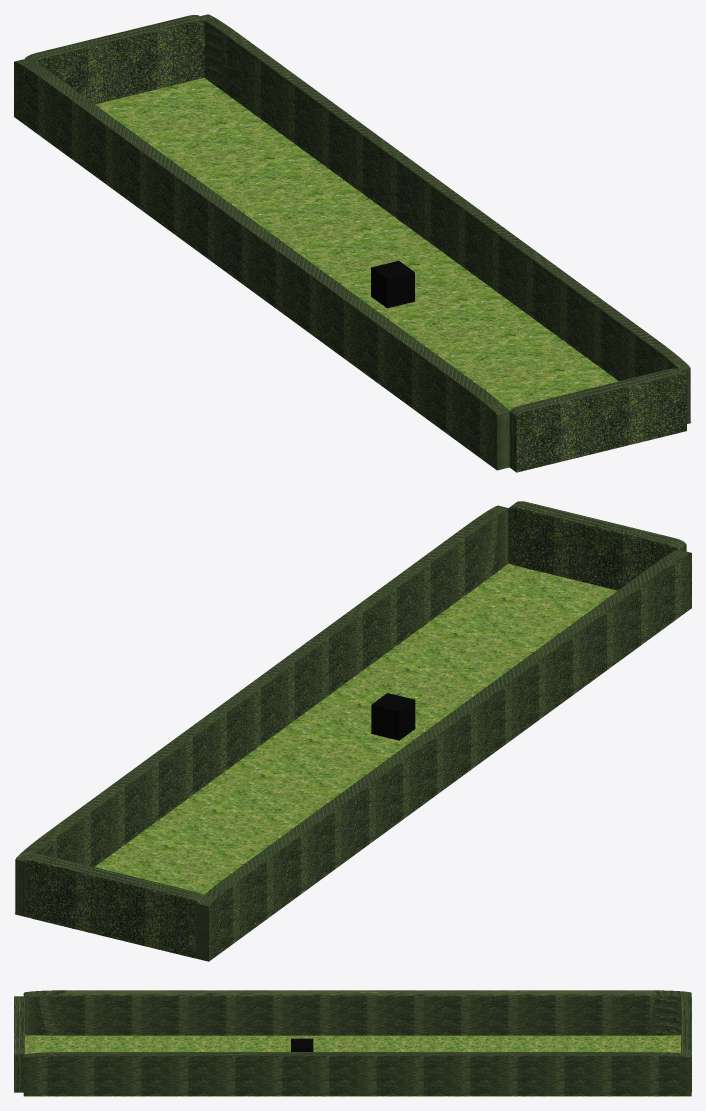
3 renders of one model, top to bottom at view 1: azimuth 30°, elevation 25°; view 2: azimuth 150°, elevation 25°; view 3: azimuth 270°, elevation 25°, orthographic. The views are drawn at different scales.
Parts seen in each view (by area): view 1: Grass, Hedge3, Hedge4, Hedge1, Hedge2, qCube; view 2: Grass, Hedge3, Hedge4, Hedge2, Hedge1, qCube; view 3: Hedge3, Hedge4, Grass, Hedge1, Hedge2, qCube.
Part boxes in pixels (x1=…): Grass: x1=95, y1=78, x2=691, y2=422; Hedge3: x1=14, y1=59, x2=509, y2=470; Hedge4: x1=200, y1=14, x2=690, y2=423; Hedge1: x1=509, y1=368, x2=686, y2=472; Hedge2: x1=25, y1=15, x2=204, y2=104; qCube: x1=371, y1=260, x2=414, y2=308; Grass: x1=14, y1=563, x2=617, y2=913; Hedge3: x1=196, y1=549, x2=691, y2=961; Hedge4: x1=15, y1=505, x2=508, y2=916; Hedge2: x1=24, y1=853, x2=203, y2=958; Hedge1: x1=508, y1=501, x2=686, y2=590; qCube: x1=371, y1=693, x2=415, y2=740; Hedge3: x1=23, y1=990, x2=691, y2=1035; Hedge4: x1=23, y1=1052, x2=691, y2=1095; Grass: x1=24, y1=1035, x2=691, y2=1096; Hedge1: x1=14, y1=996, x2=24, y2=1092; Hedge2: x1=681, y1=995, x2=691, y2=1091; qCube: x1=291, y1=1038, x2=313, y2=1051.
Size of what is drawn, in the model's own units: 14.02 by 4.04 by 60.97.
Materials: 4 (4 with a texture image).
